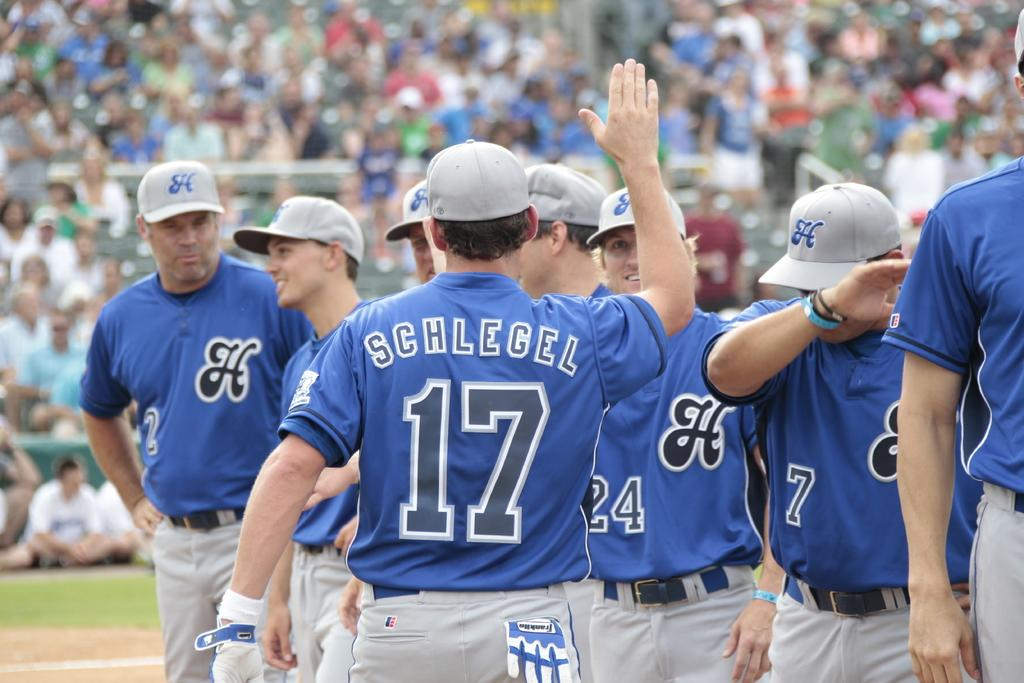Hat: (754, 181, 902, 288), (426, 134, 530, 220), (230, 198, 365, 264), (583, 186, 682, 249), (136, 156, 224, 225), (522, 163, 606, 225), (386, 178, 428, 240), (1013, 8, 1023, 62)
